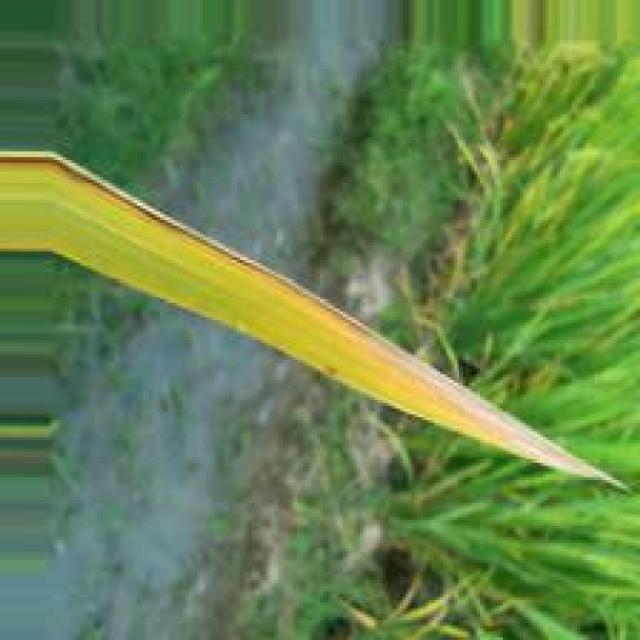Bacterial_Leaf_Blight: (0, 151, 599, 478), (322, 367, 339, 376)
